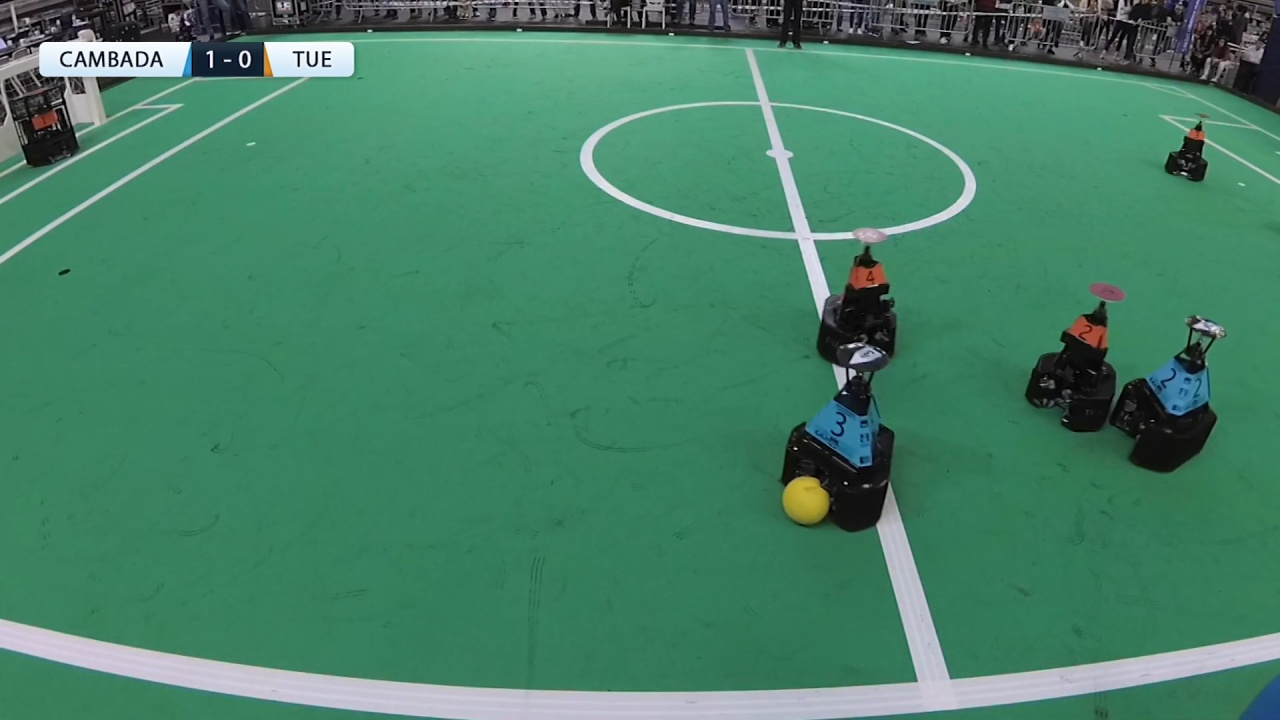BALL: (780, 473, 831, 531)
BLUE2: (1121, 316, 1222, 470)
BLUE3: (777, 337, 904, 533)
RED2: (1027, 278, 1118, 430)
RED3: (1166, 113, 1208, 182)
RED4: (823, 223, 896, 368)
R_Goalie: (5, 95, 76, 163)
